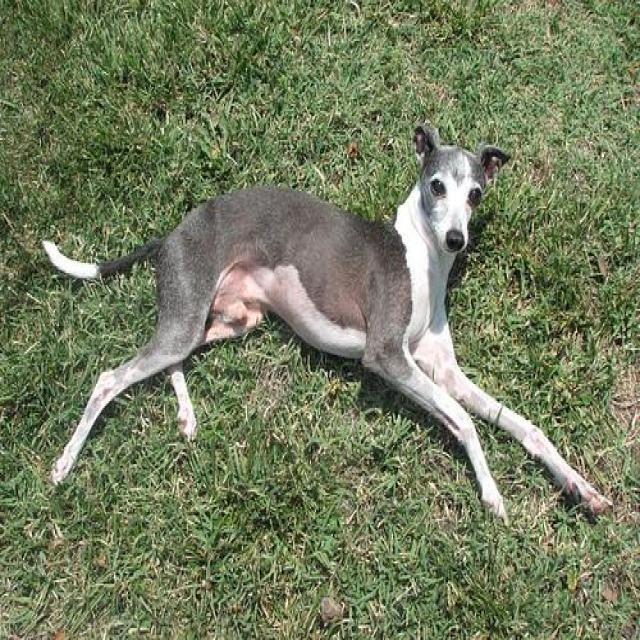dog: (27, 95, 628, 587)
